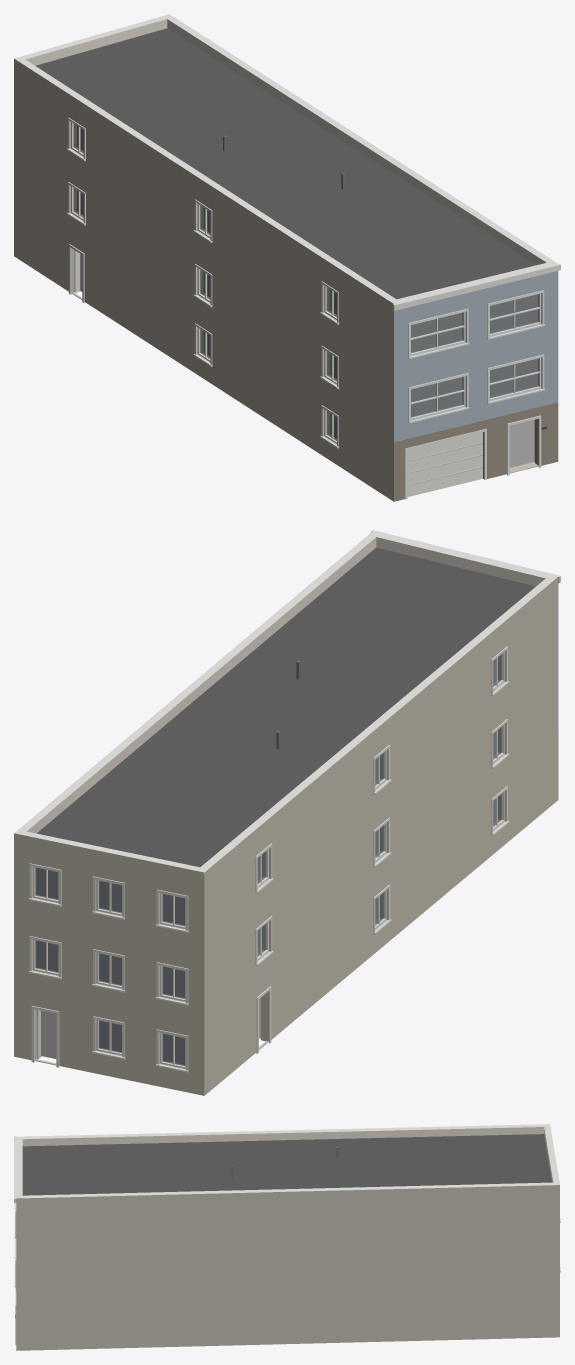
File: exterior.glb
3 views of the same model, one above another, from view 1: azimuth 30°, elevation 25°; view 2: azimuth 150°, elevation 25°; view 3: azimuth 270°, elevation 25° (orthographic). The views are drawn at different scales.
Parts seen in each view (by area): view 1: shell, roof, glazing, shadow-proxy, trim, doors, frames; view 2: shell, roof, trim, glazing, shadow-proxy, frames; view 3: shell, roof, trim.
Part boxes in pixels (<box>): shell: <box>14,14,558,501</box>; roof: <box>35,28,560,310</box>; glazing: <box>73,124,538,440</box>; shadow-proxy: <box>77,126,537,467</box>; trim: <box>67,117,546,475</box>; doors: <box>71,250,538,499</box>; frames: <box>71,122,541,443</box>; shell: <box>14,531,558,1095</box>; roof: <box>37,530,560,866</box>; trim: <box>28,646,509,1072</box>; glazing: <box>35,654,501,1065</box>; shadow-proxy: <box>36,660,494,1064</box>; frames: <box>33,652,504,1068</box>; shell: <box>16,1124,559,1350</box>; roof: <box>14,1134,551,1202</box>; trim: <box>14,1203,560,1344</box>.
Size of the model in its own units: 9.46 by 9.3 by 29.26.
